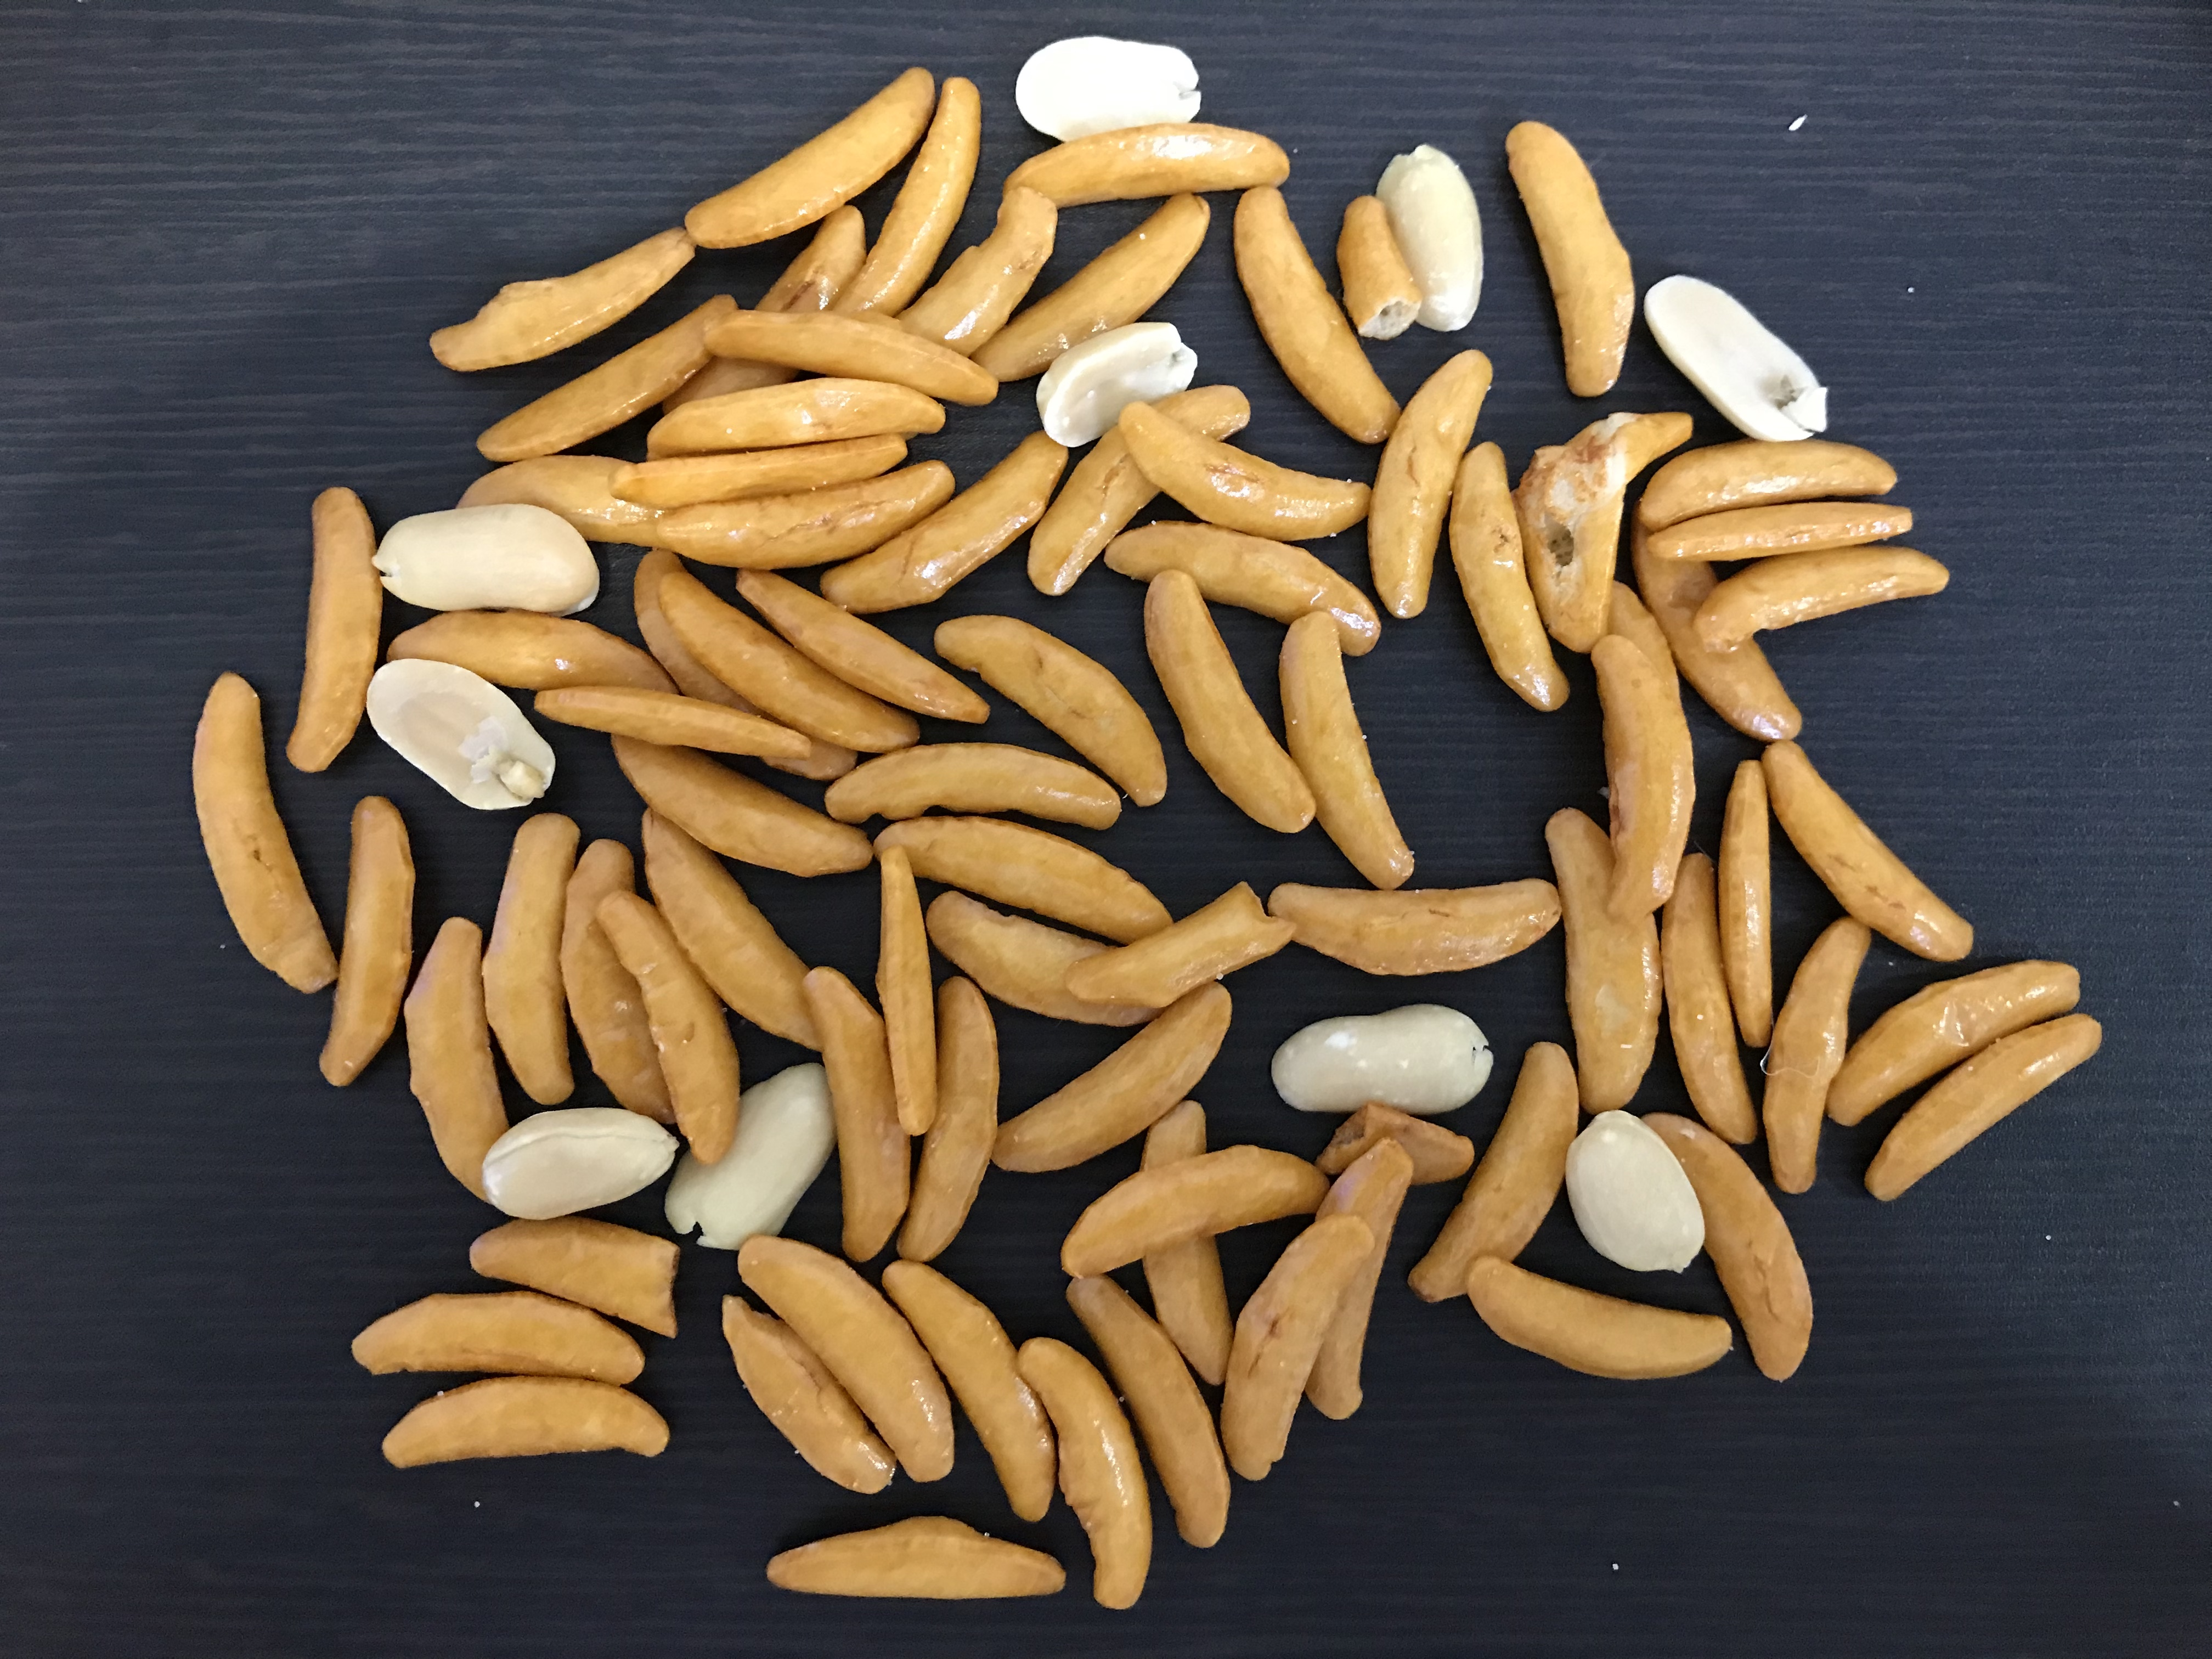peanut: (1639, 263, 1827, 451), (359, 647, 561, 810), (368, 493, 601, 620), (669, 1075, 841, 1246), (1270, 997, 1496, 1108), (1564, 1110, 1710, 1277), (1372, 136, 1489, 338), (1010, 17, 1204, 136), (1036, 322, 1195, 458), (479, 1107, 665, 1222)
